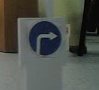right: (23, 20, 66, 57)
